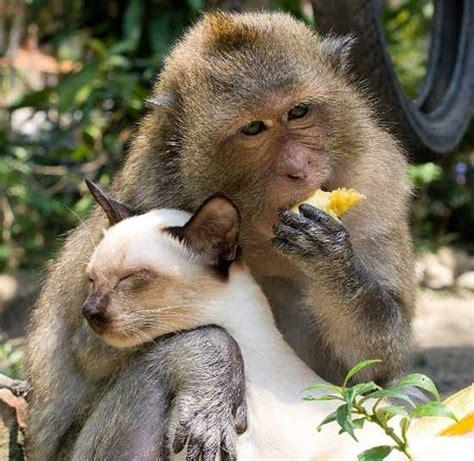cat: (85, 182, 464, 461)
monkey: (27, 12, 409, 461)
